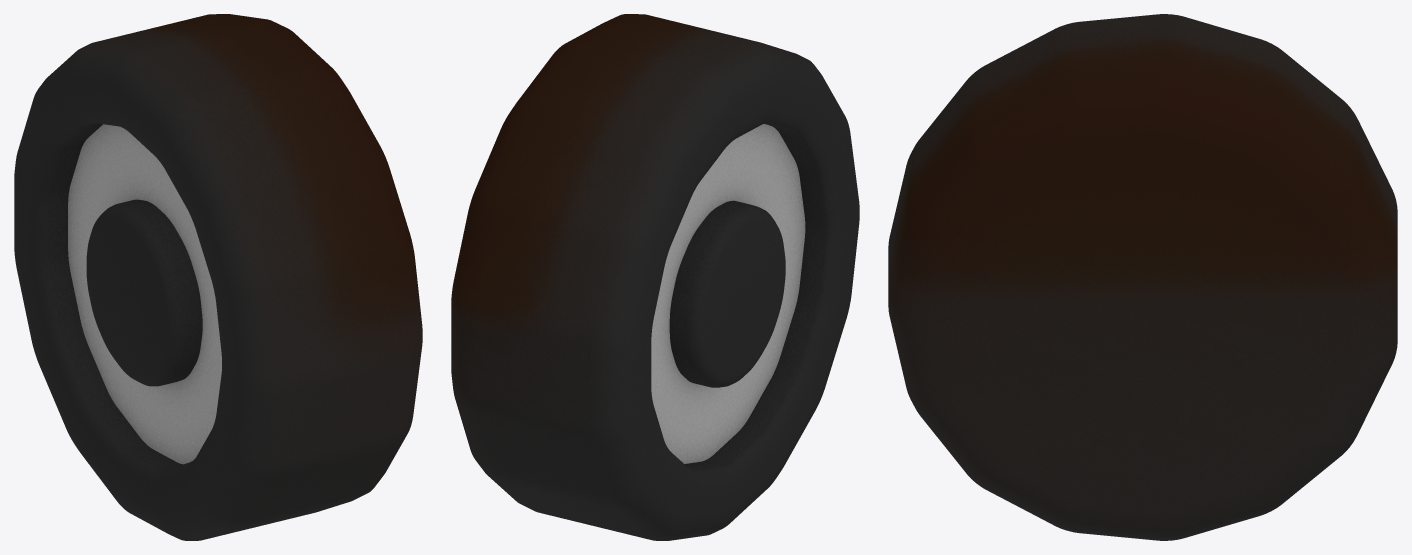
The model's file is wheell.glb.
The picture shows the model from 3 angles, left to right: view 1: azimuth 30°, elevation 25°; view 2: azimuth 150°, elevation 25°; view 3: azimuth 270°, elevation 25°; orthographic projection.
Parts seen in each view (by area): view 1: Cylinder.006, Cylinder.009; view 2: Cylinder.006, Cylinder.009; view 3: Cylinder.006.
Boxes of the visible parts, bbox=[...] form: Cylinder.006: bbox=[14, 14, 422, 540]; Cylinder.009: bbox=[68, 124, 221, 464]; Cylinder.006: bbox=[451, 14, 859, 540]; Cylinder.009: bbox=[651, 124, 805, 463]; Cylinder.006: bbox=[888, 14, 1397, 540].
Size of the model in its own units: 0.2525 by 0.6025 by 0.6.
2 materials, 2 textured.
